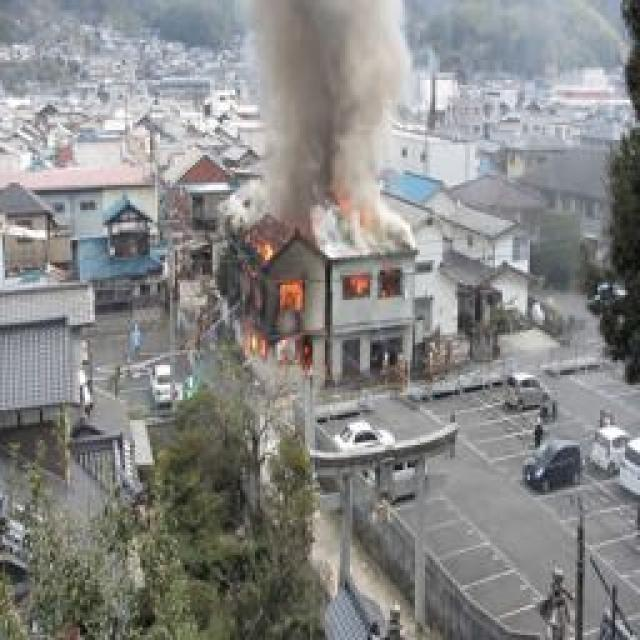Fire: (235, 240, 310, 372), (336, 270, 376, 294)
